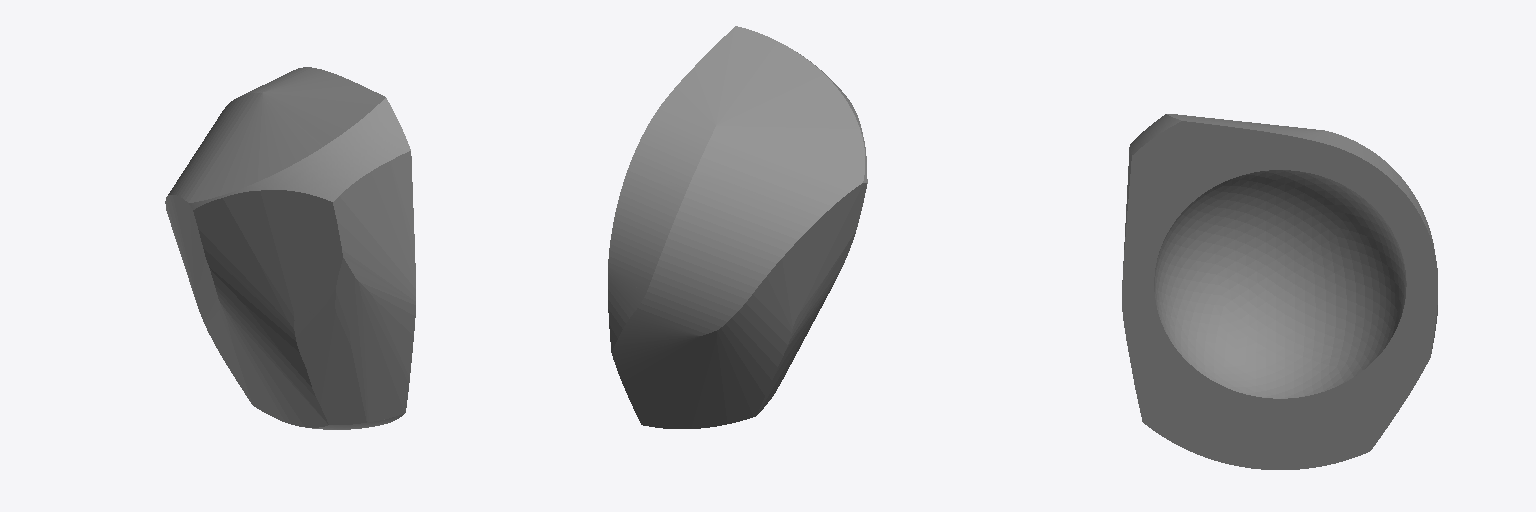
Rendered from random_bridged_1_v1_right.obj.
3 views of the same model, side by side, from view 1: azimuth 30°, elevation 25°; view 2: azimuth 150°, elevation 25°; view 3: azimuth 270°, elevation 25° (orthographic).
Parts seen in each view (by area): view 1: GeoSphere001; view 2: GeoSphere001; view 3: GeoSphere001.
Part boxes in pixels (left/top/right/bottom): GeoSphere001: left=165, top=67, right=415, bottom=429; GeoSphere001: left=608, top=26, right=867, bottom=428; GeoSphere001: left=1122, top=114, right=1437, bottom=469.
Bounding box in the file's own units: 1.19 × 2.44 × 2.